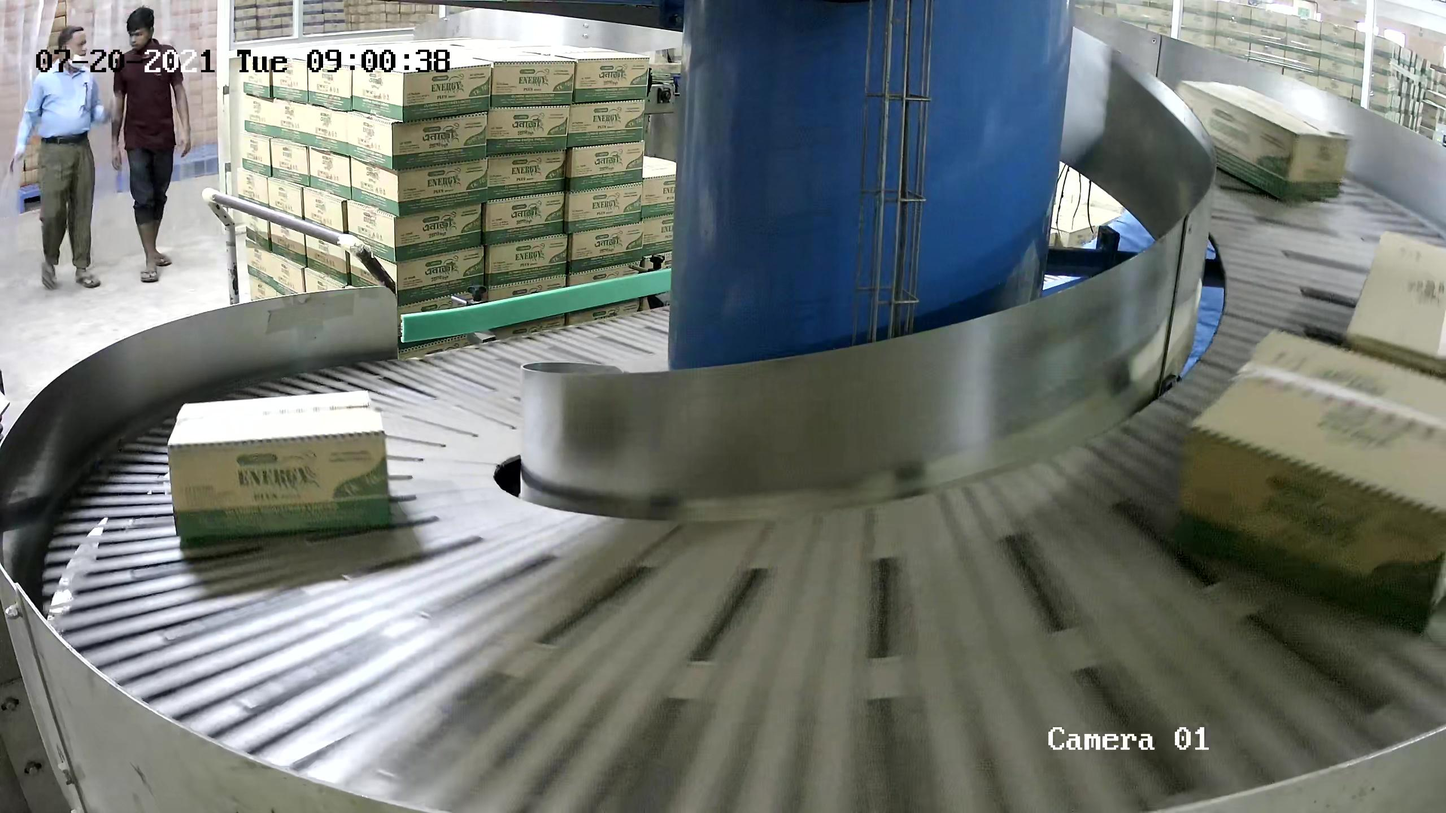Box: (1177, 326, 1446, 640), (165, 388, 394, 543), (1171, 78, 1352, 203)
